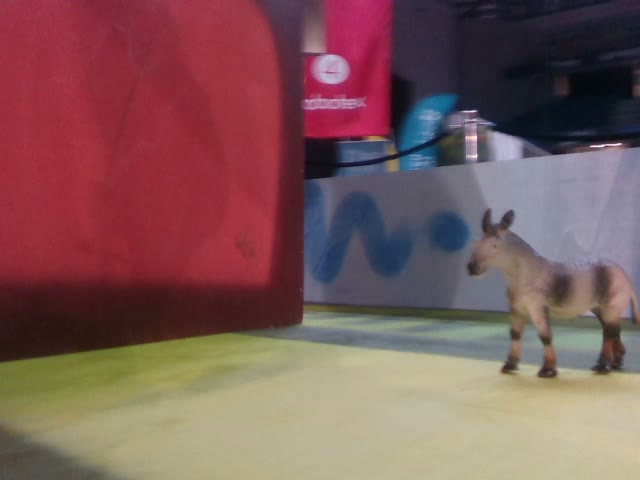toy: (467, 206, 637, 379)
